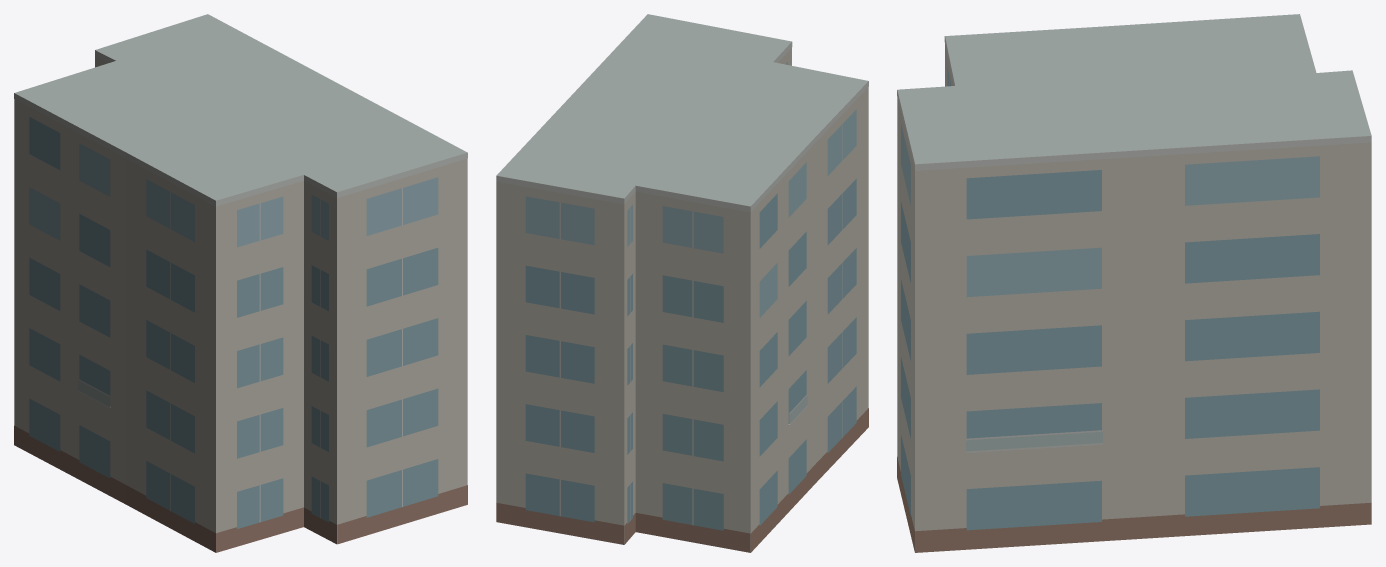
File: survey-upis-32890838.glb
The picture shows the model from 3 angles, left to right: view 1: azimuth 30°, elevation 25°; view 2: azimuth 150°, elevation 25°; view 3: azimuth 270°, elevation 25°; orthographic projection. The views are drawn at different scales.
Parts seen in each view (by area): view 1: survey-upis-32890838.tmp; view 2: survey-upis-32890838.tmp; view 3: survey-upis-32890838.tmp.
Part boxes in pixels (x1,y1,x2,y2): survey-upis-32890838.tmp: [14, 14, 467, 552]; survey-upis-32890838.tmp: [496, 14, 868, 552]; survey-upis-32890838.tmp: [897, 14, 1371, 552].
Size of the model in its own units: 12.16 by 14.65 by 16.22.
